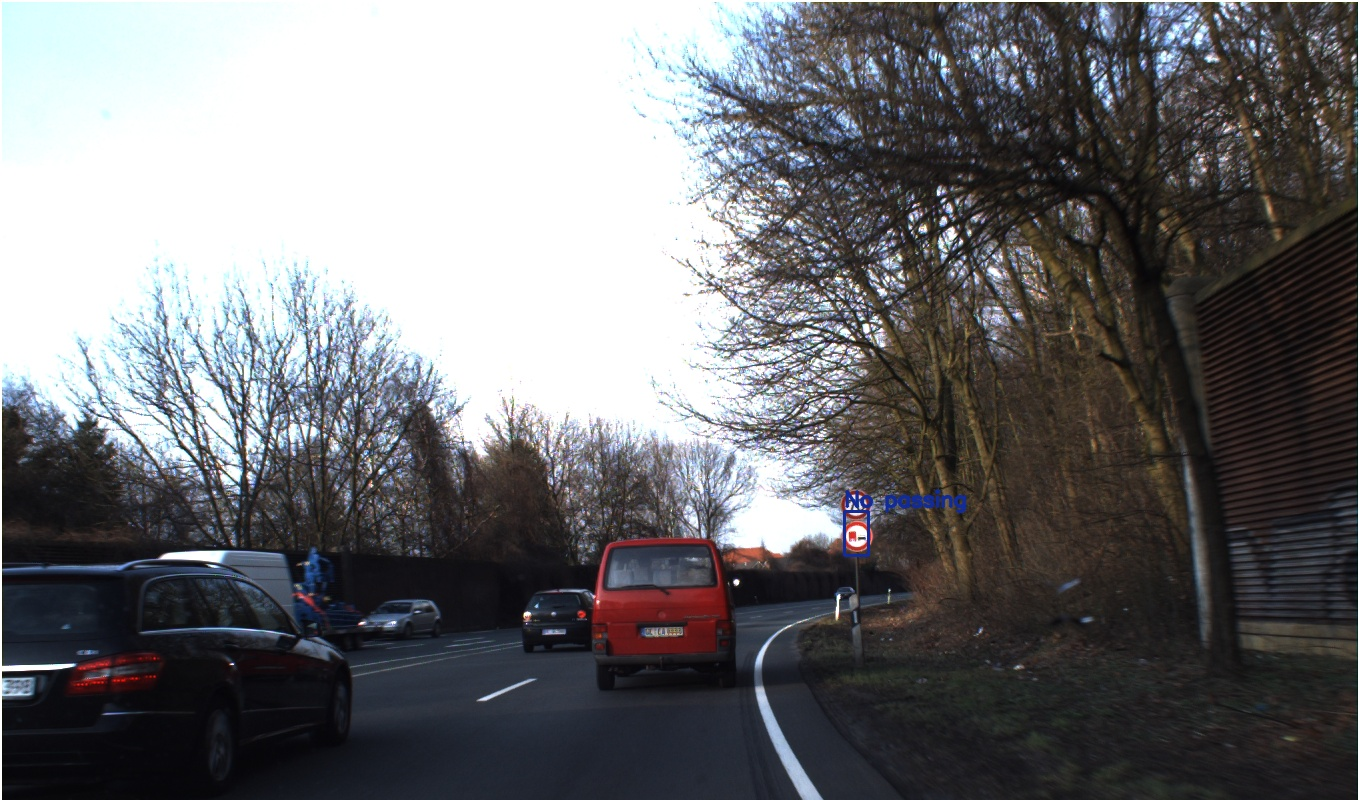Double curve: (710, 265, 780, 342)
Speed limit (30km/h): (720, 338, 770, 398)
